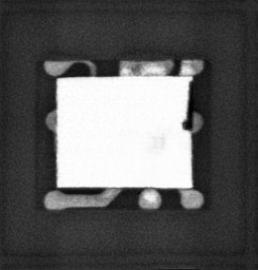DIE_BROKEN: (181, 79, 193, 133)
